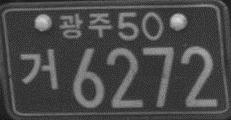0: (141, 11, 164, 41)
2: (179, 44, 219, 109), (107, 46, 145, 110)
5: (116, 10, 139, 42)
6: (71, 46, 105, 108)
7: (141, 45, 174, 109)
거: (18, 48, 58, 92)
광주_O: (57, 11, 112, 41)
